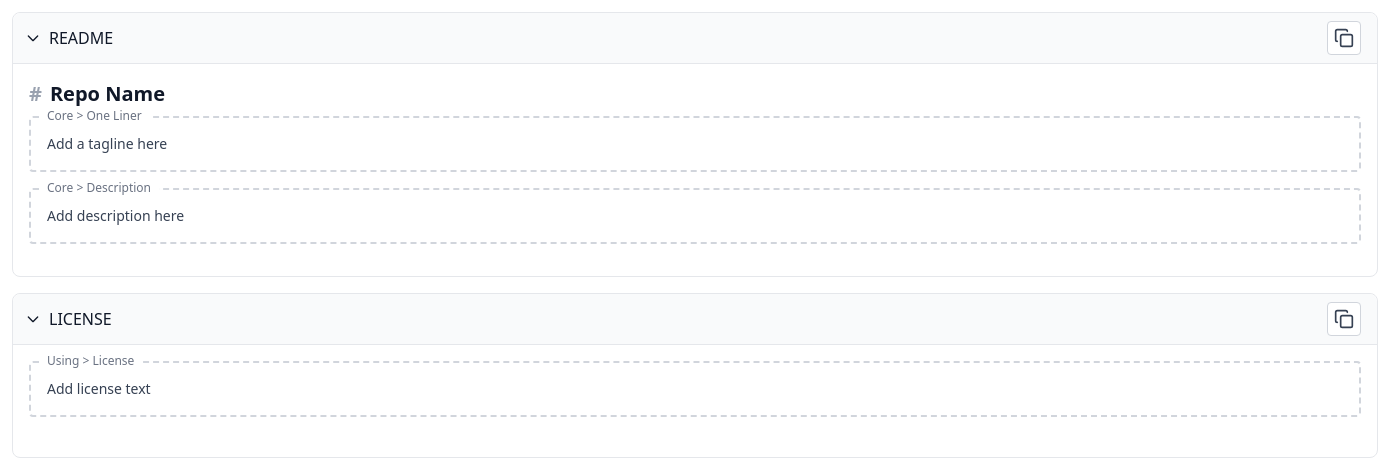
Test: Documents › renders expand/collapse for each document
Expected: the text "Add a tagline here" is shown, [47,134,167,153]
# Click to collapse
Click the button "README" at (81,38), box [13,14,1319,62]
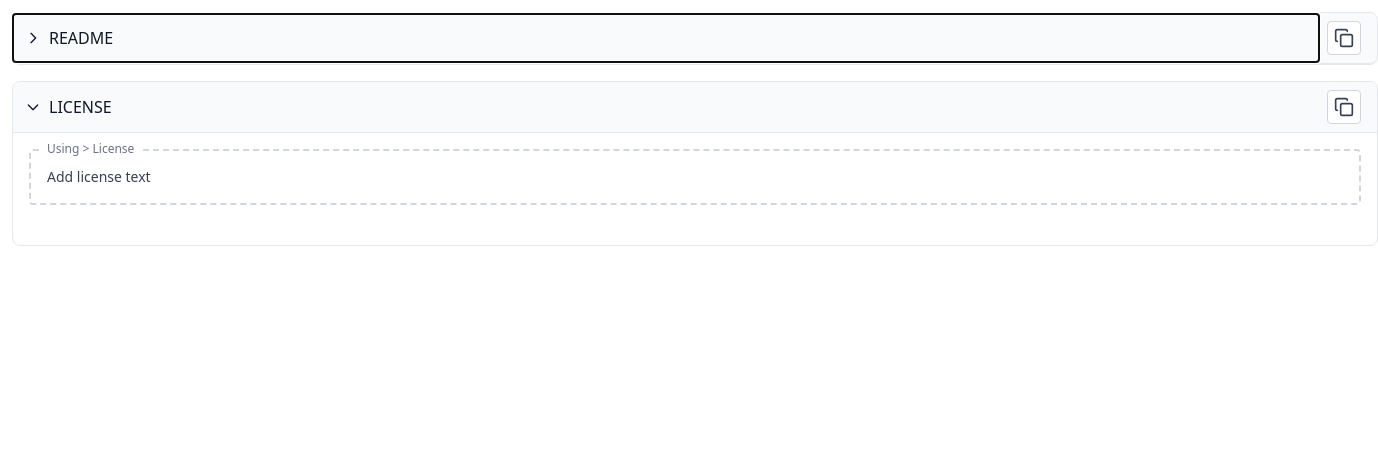
Result: the text "Add a tagline here" is gone
